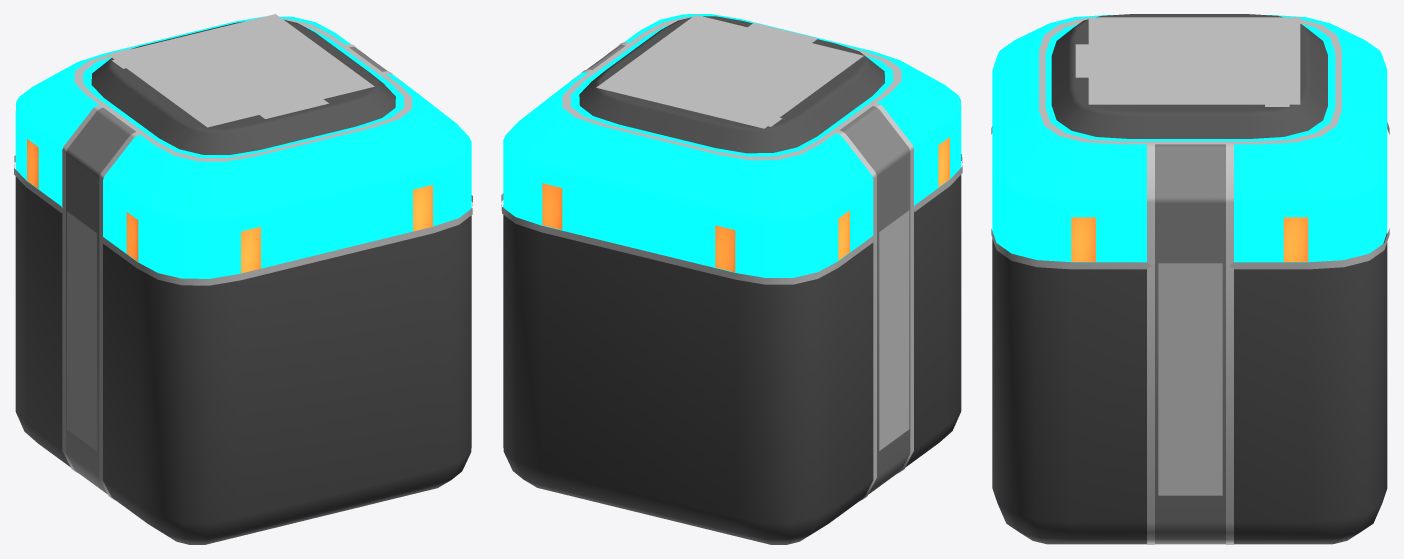
Rendered from FUT0110006.fbx.
3 views of the same model, side by side, from view 1: azimuth 30°, elevation 25°; view 2: azimuth 150°, elevation 25°; view 3: azimuth 270°, elevation 25° (orthographic). The views are drawn at different scales.
Visible parts, largest first — view 1: smFUT0110006; view 2: smFUT0110006; view 3: smFUT0110006.
Boxes of the visible parts, bbox=[...] form: smFUT0110006: bbox=[14, 14, 472, 544]; smFUT0110006: bbox=[501, 14, 962, 544]; smFUT0110006: bbox=[991, 14, 1389, 544].
Bounding box in the file's own units: 67.59 × 77.6 × 67.59.
1 material, 1 textured.
